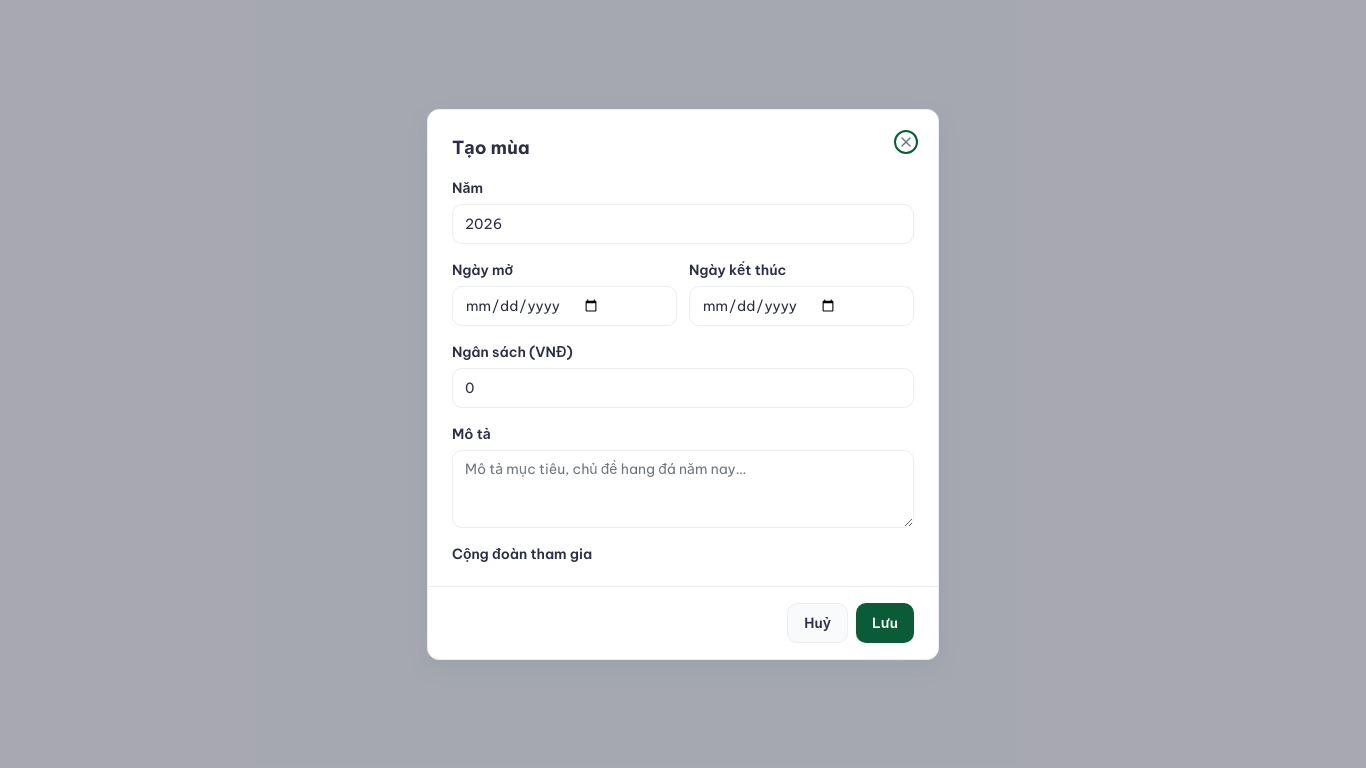
it: SeasonFormDialog validation › end trước start → hiện lỗi "Ngày kết thúc phải sau ngày mở"
In the date field labelled "Ngày mở": (564, 306) [452,286,677,326], type "2026-12-24"
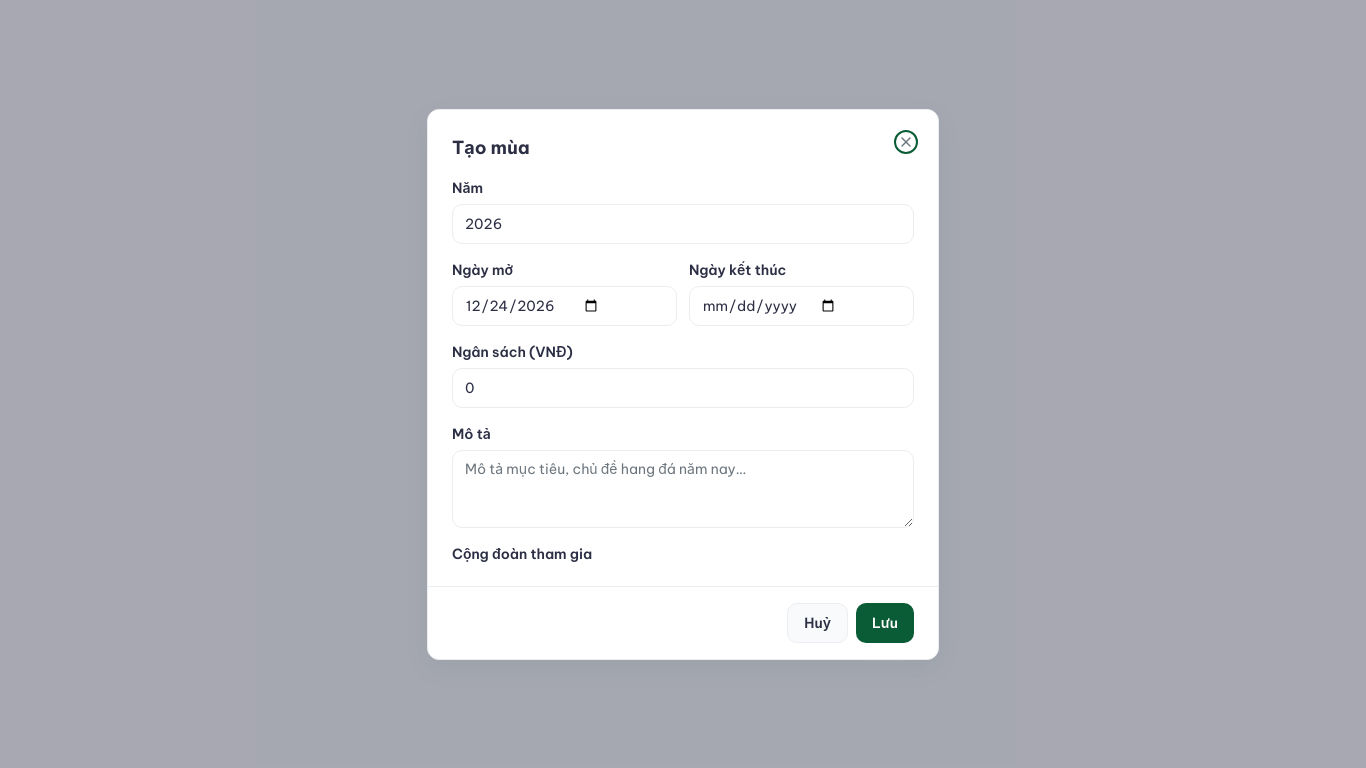
In the date field labelled "Ngày kết thúc": (802, 306) [689,286,914,326], type "2026-09-15"
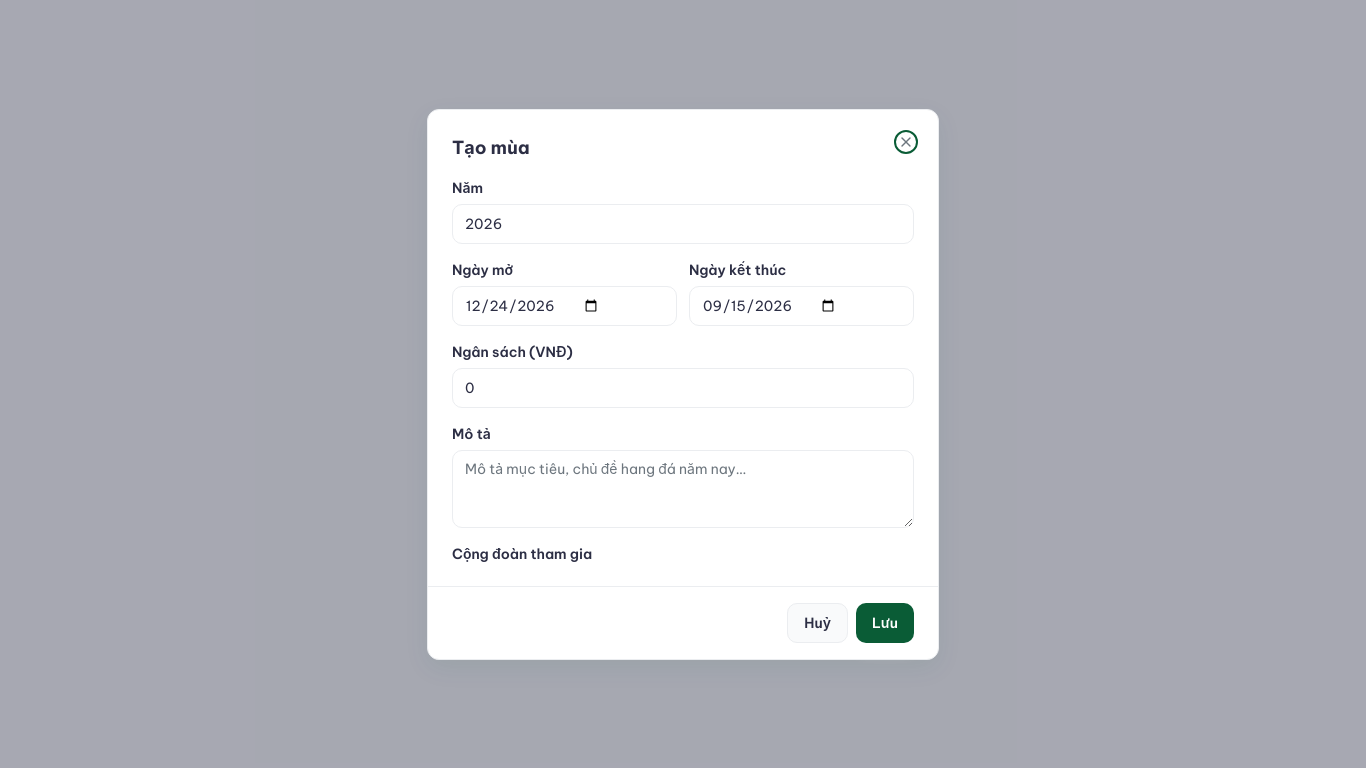
Submit the form with id "season-form", box [452,178,914,570]
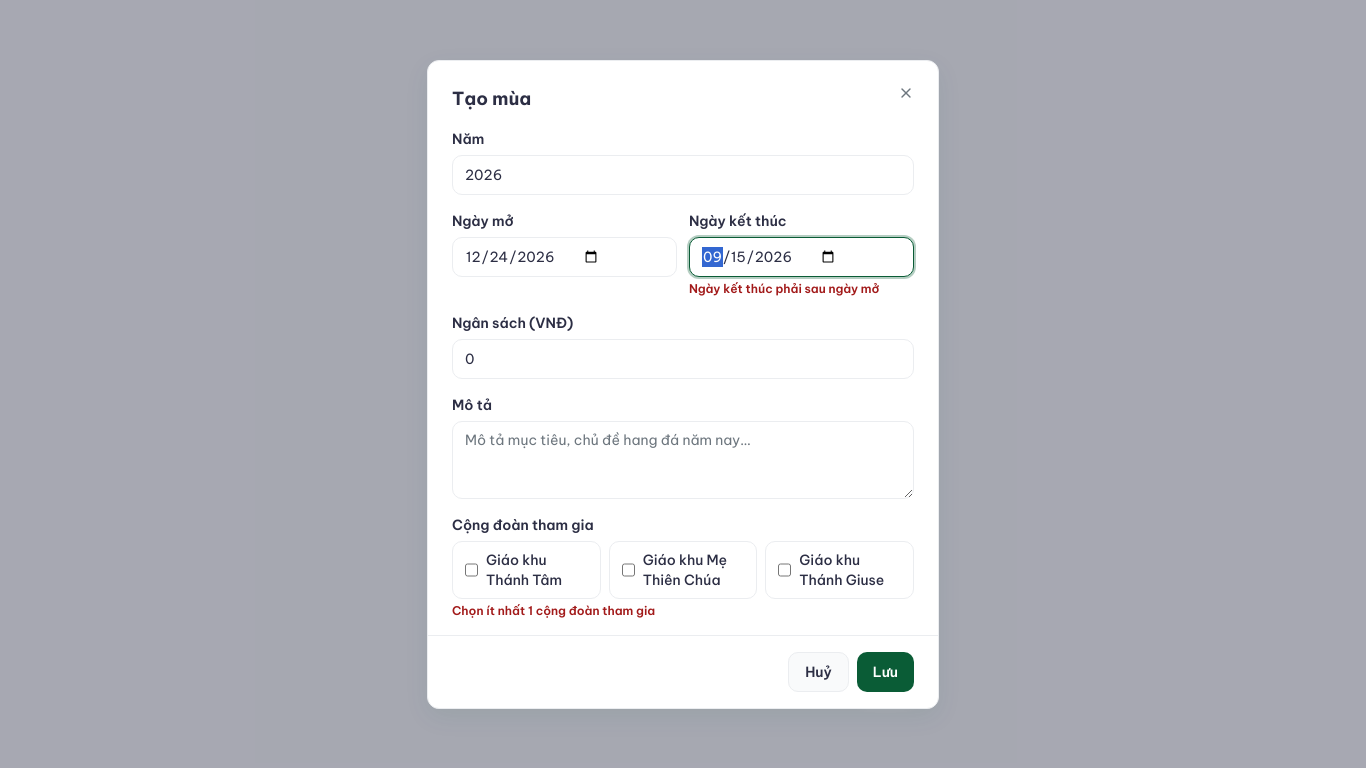
Now the text "Ngày kết thúc phải sau ngày mở" is shown, box [689,280,879,296]
